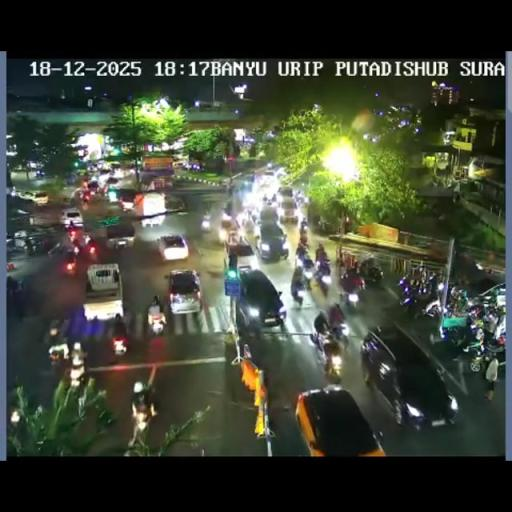Car: (362, 323, 458, 426), (294, 384, 385, 454), (232, 268, 286, 334), (83, 264, 124, 323), (168, 269, 202, 314), (254, 222, 289, 260), (224, 235, 258, 273), (135, 192, 166, 226), (102, 222, 135, 252), (157, 233, 189, 261), (204, 200, 226, 240), (278, 190, 298, 222), (114, 188, 140, 210), (61, 207, 83, 228), (163, 194, 186, 214), (20, 190, 48, 206), (258, 171, 278, 191), (95, 170, 116, 188)
Motorcycle: (400, 280, 438, 320), (437, 314, 473, 352), (128, 401, 154, 449), (318, 336, 344, 382), (64, 366, 90, 410), (478, 320, 505, 358), (338, 270, 365, 306), (107, 324, 130, 360), (8, 405, 27, 447), (448, 286, 470, 316), (146, 306, 166, 338), (48, 345, 67, 373), (330, 318, 350, 344), (313, 266, 330, 296), (290, 274, 305, 303), (314, 310, 330, 335), (80, 236, 98, 258), (46, 238, 68, 256), (47, 318, 63, 342), (485, 302, 504, 322), (466, 303, 484, 323), (296, 248, 313, 268), (69, 230, 83, 254), (366, 266, 384, 284), (6, 276, 20, 298), (63, 254, 76, 276), (317, 218, 334, 234), (246, 206, 260, 224), (456, 270, 470, 288), (302, 265, 312, 290), (25, 237, 37, 255), (358, 258, 369, 277), (338, 255, 347, 277), (315, 246, 327, 262), (293, 190, 304, 206), (262, 194, 276, 206), (298, 232, 308, 246), (82, 192, 90, 206), (282, 241, 288, 258), (302, 195, 310, 206), (300, 218, 307, 230)
